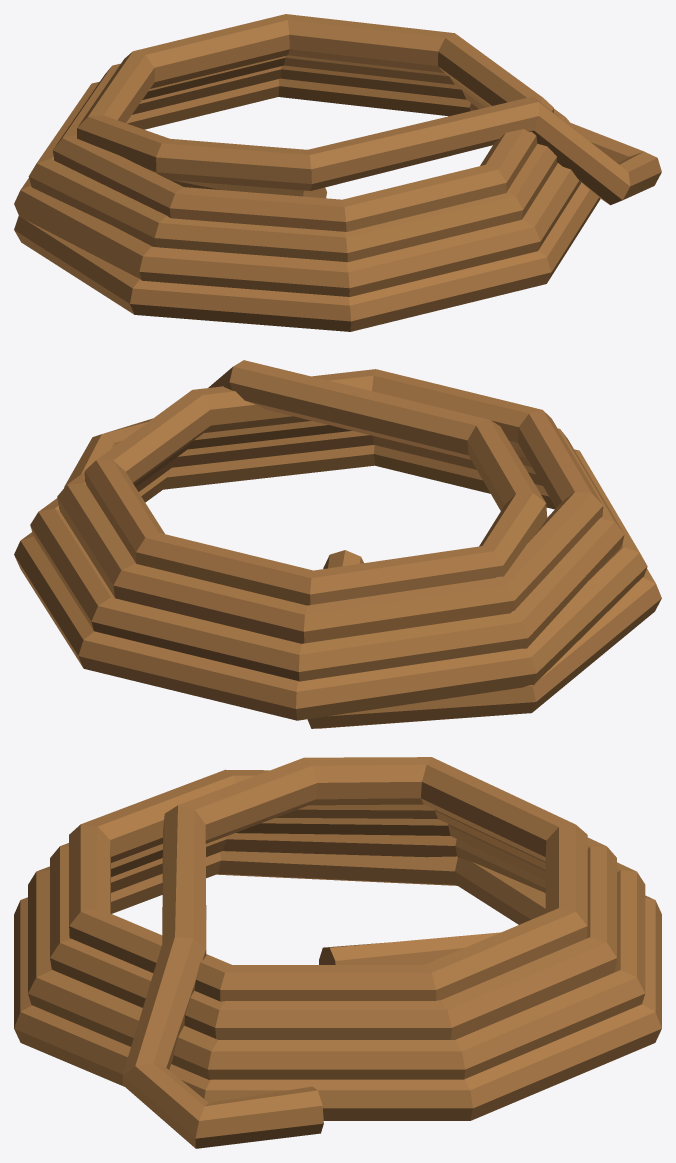
The model's file is corda per impiccarsi.fbx.
3 renders of one model, top to bottom at view 1: azimuth 30°, elevation 25°; view 2: azimuth 150°, elevation 25°; view 3: azimuth 270°, elevation 25°, orthographic. The views are drawn at different scales.
Parts seen in each view (by area): view 1: corda arrotolata; view 2: corda arrotolata; view 3: corda arrotolata.
Boxes of the visible parts, x1,y1,x2,y2 form: corda arrotolata: (14,14,661,331); corda arrotolata: (14,360,661,728); corda arrotolata: (14,757,661,1148).
Size of the model in its own units: 1.12 by 1.02 by 0.3037.
